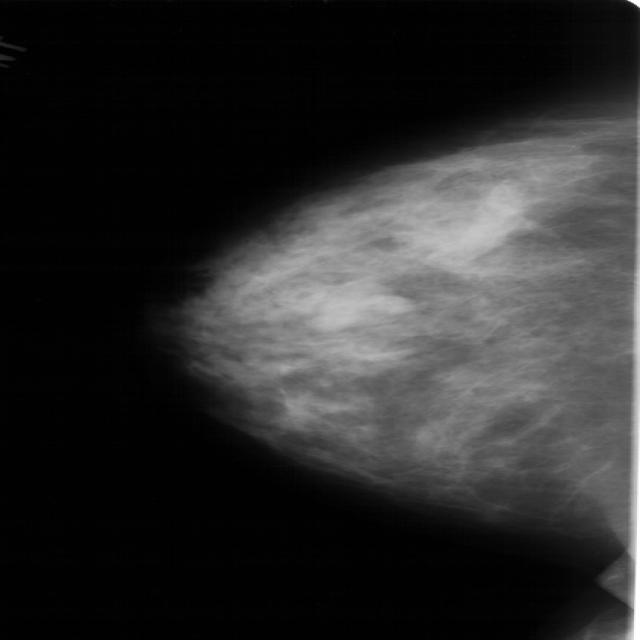tumour: (301, 283, 407, 327)
